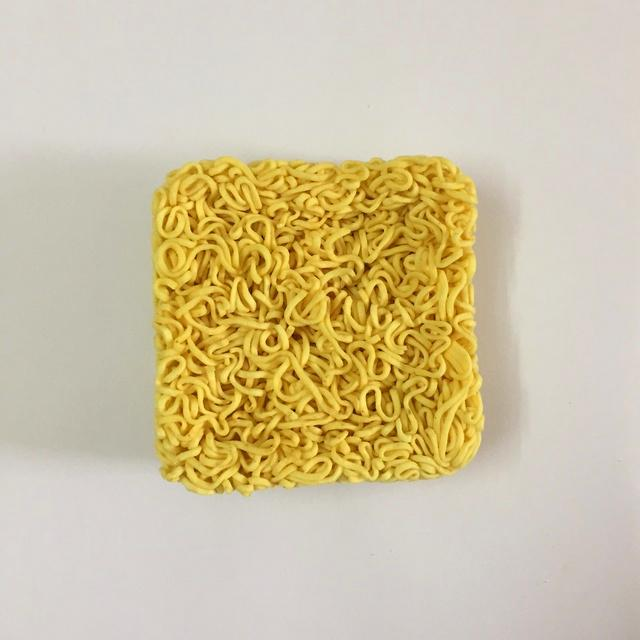noodles: (140, 142, 497, 502)
